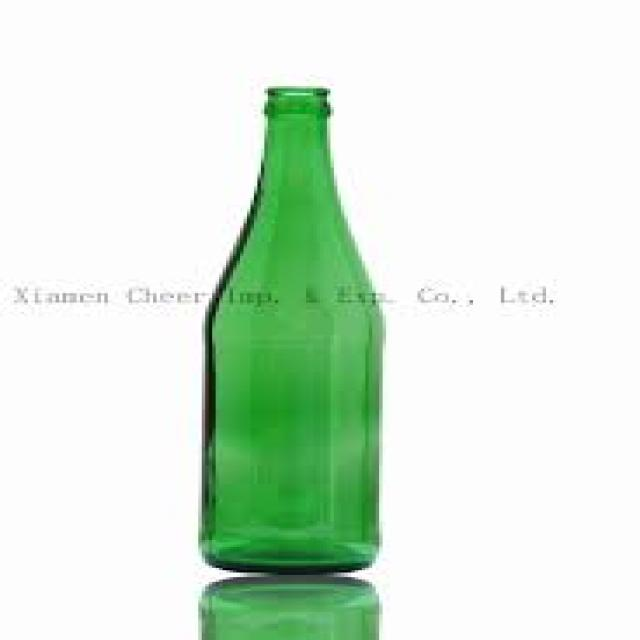glass: (198, 84, 379, 572)
